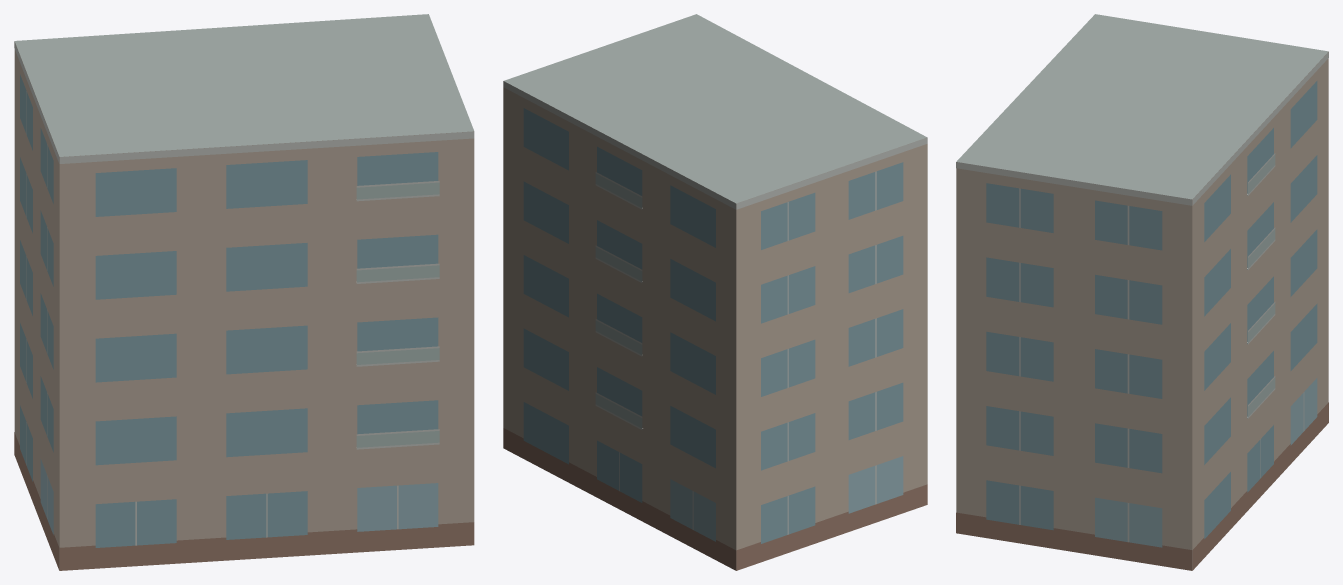
File: survey-upis-32870178.glb
The picture shows the model from 3 angles, left to right: view 1: azimuth 30°, elevation 25°; view 2: azimuth 150°, elevation 25°; view 3: azimuth 270°, elevation 25°; orthographic projection. The views are drawn at different scales.
Visible parts, largest first — view 1: survey-upis-32870178.tmp; view 2: survey-upis-32870178.tmp; view 3: survey-upis-32870178.tmp.
Part boxes in pixels (left/top/right/bottom): survey-upis-32870178.tmp: left=14, top=14, right=474, bottom=570; survey-upis-32870178.tmp: left=503, top=14, right=927, bottom=570; survey-upis-32870178.tmp: left=956, top=14, right=1328, bottom=570.
Bounding box in the file's own units: 15.22 × 14.2 × 12.92.
